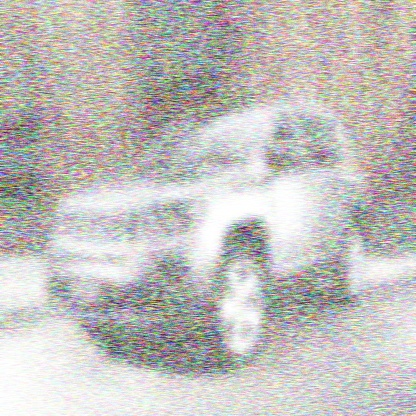Vehicle: (44, 93, 374, 370)
